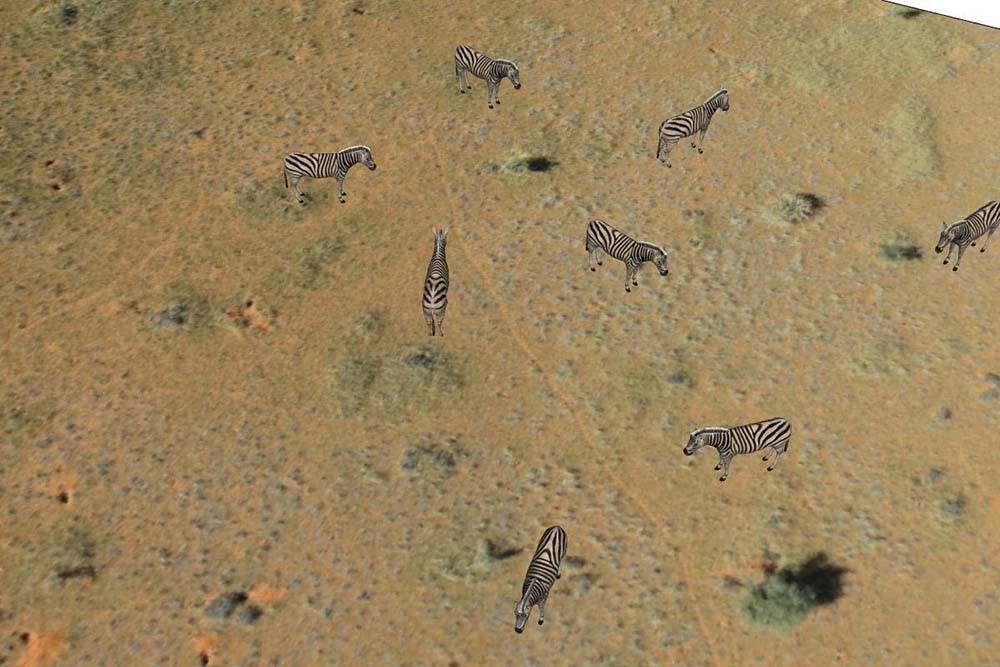zebra: (645, 70, 742, 166), (567, 207, 672, 294), (507, 513, 572, 642), (685, 412, 796, 481), (279, 139, 390, 207), (445, 40, 525, 118), (931, 185, 1000, 275), (417, 223, 461, 340)
